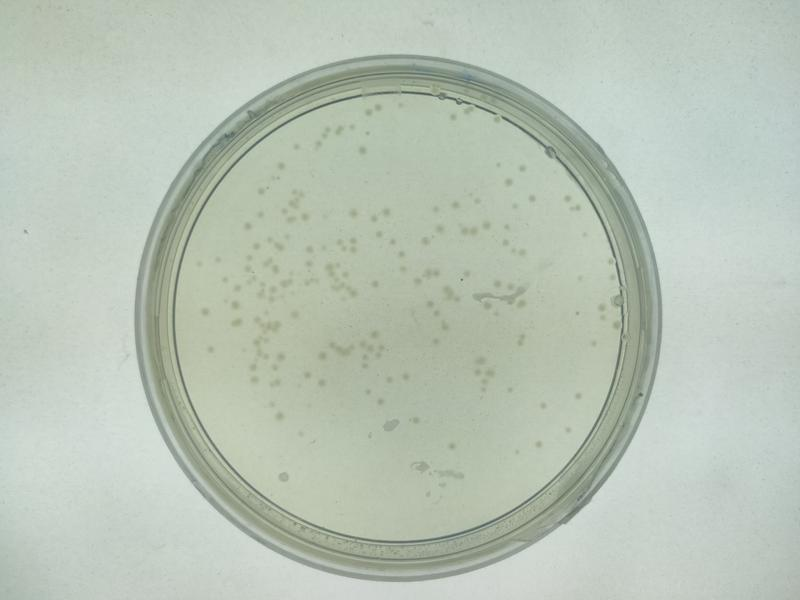colony: (363, 274, 387, 297), (267, 468, 295, 487), (527, 432, 550, 454), (439, 434, 461, 456), (532, 396, 556, 416), (353, 141, 372, 164), (520, 189, 543, 208), (344, 201, 362, 225), (416, 232, 435, 254), (193, 304, 216, 322), (398, 365, 415, 389), (312, 348, 334, 366), (497, 172, 516, 192), (378, 201, 395, 222)
